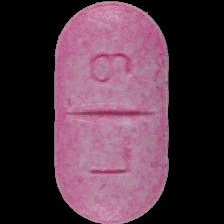43063-230: (0, 0, 224, 224)
